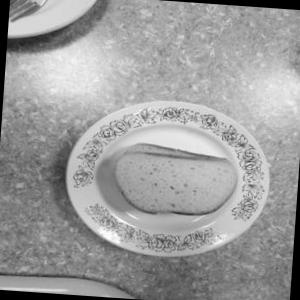bread: (101, 134, 261, 216)
